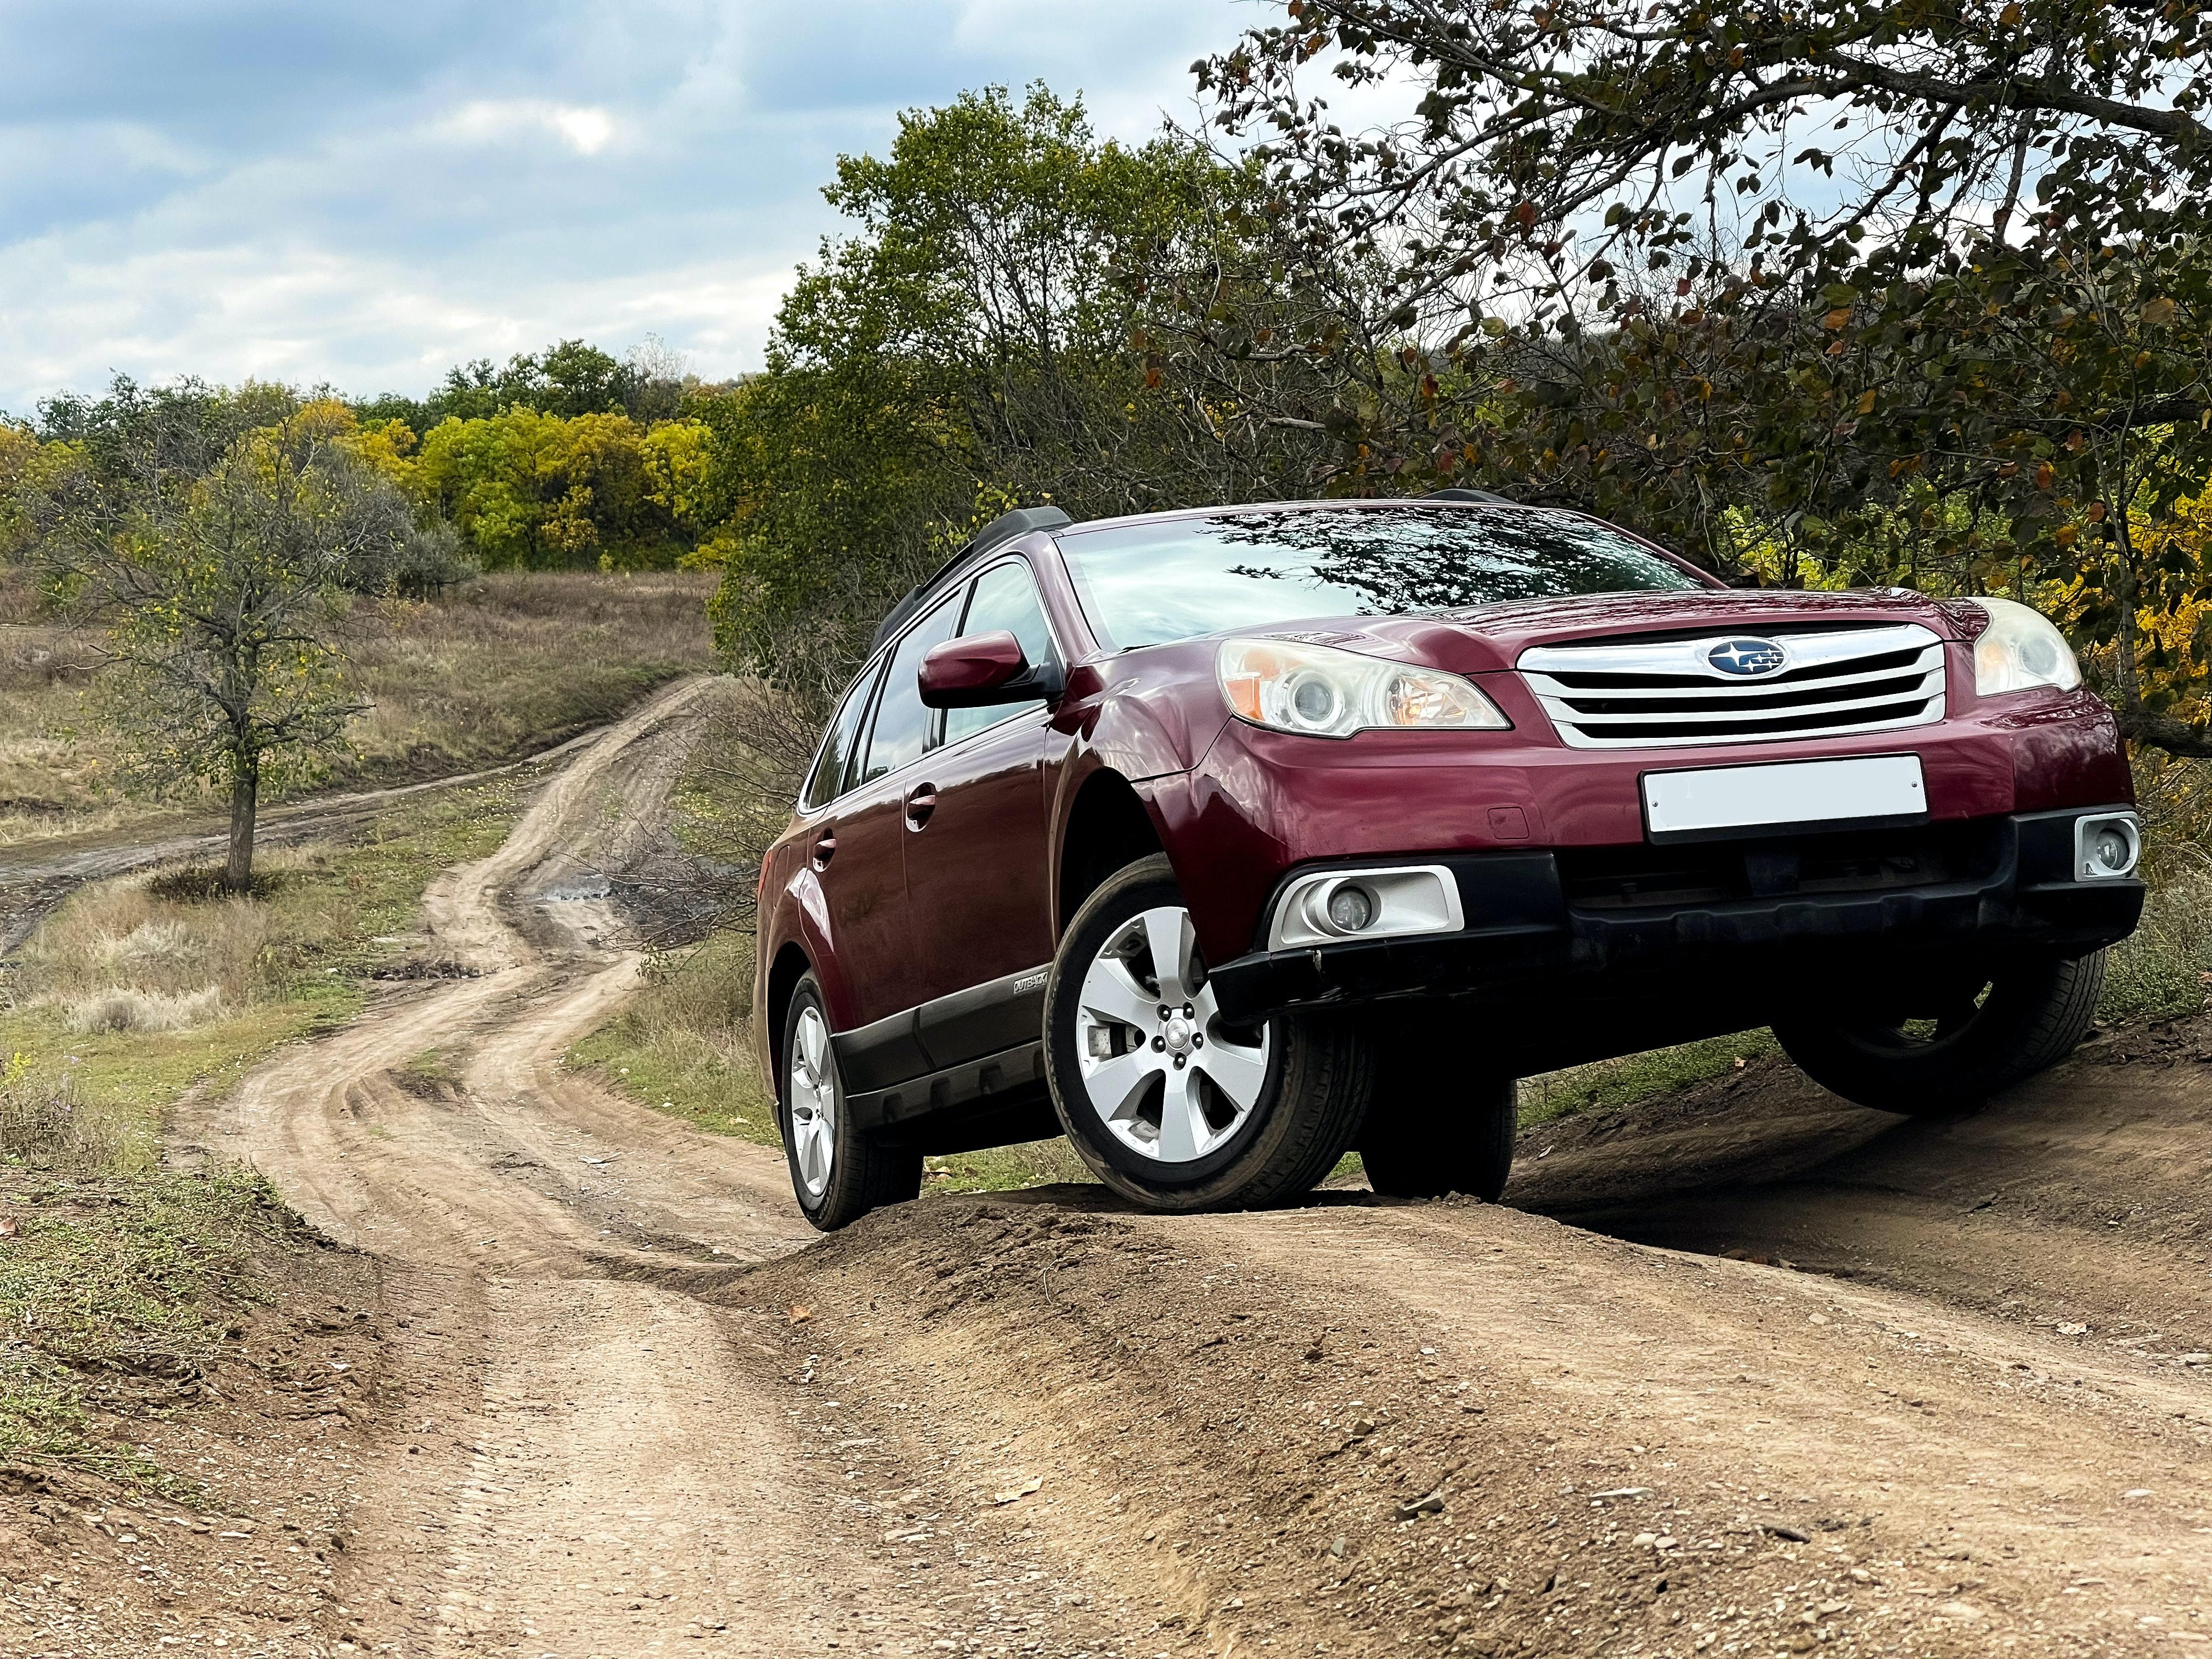subaru: (1684, 624, 1804, 697)
